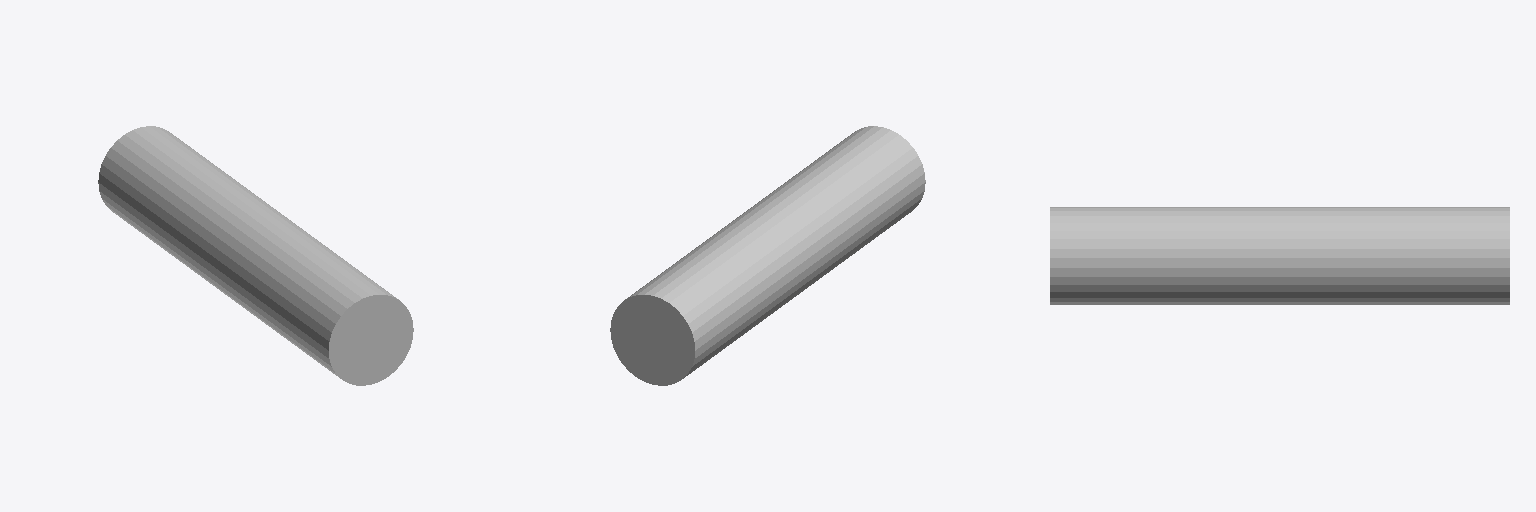
File: m4a4silencer.obj
The picture shows the model from 3 angles: view 1: azimuth 30°, elevation 25°; view 2: azimuth 150°, elevation 25°; view 3: azimuth 270°, elevation 25°; orthographic projection.
Parts seen in each view (by area): view 1: Cylinder; view 2: Cylinder; view 3: Cylinder.
Part boxes in pixels (bbox=[...]): Cylinder: bbox=[98, 126, 413, 385]; Cylinder: bbox=[610, 126, 925, 385]; Cylinder: bbox=[1050, 207, 1509, 304].
Bounding box in the file's own units: 0.3145 × 0.3145 × 1.47.